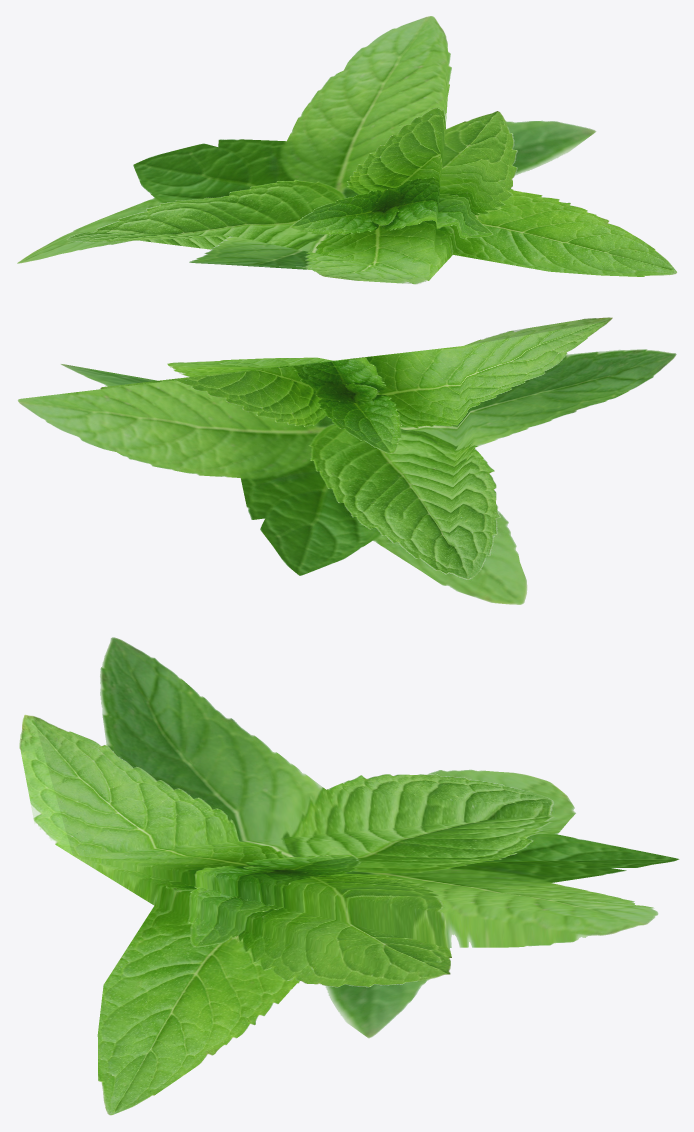
The model's file is SlothLEAF3.fbx.
The picture shows the model from 3 angles, top to bottom: view 1: azimuth 30°, elevation 25°; view 2: azimuth 150°, elevation 25°; view 3: azimuth 270°, elevation 25°; orthographic projection. The views are drawn at different scales.
Visible parts, largest first — view 1: leaf2; view 2: leaf2; view 3: leaf2.
Boxes of the visible parts, x1=… form: leaf2: x1=17, y1=16, x2=677, y2=284; leaf2: x1=17, y1=317, x2=676, y2=604; leaf2: x1=19, y1=637, x2=679, y2=1115.
Bounding box in the file's own units: 0.9923 × 0.2355 × 0.8324.
